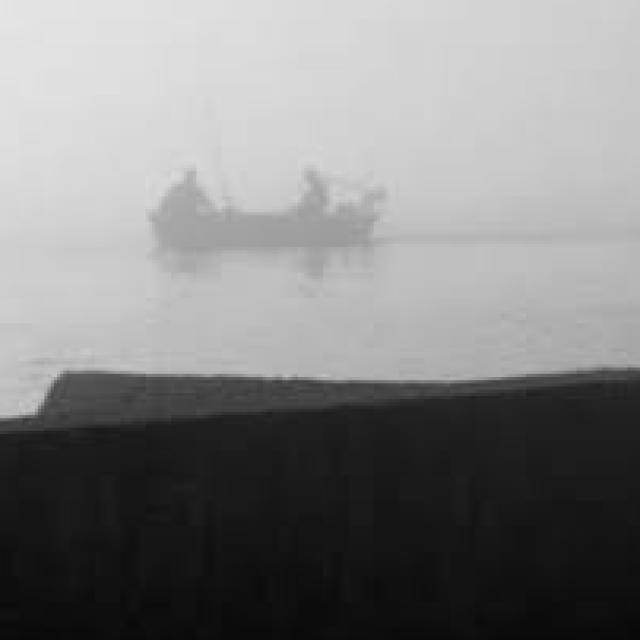fishing boat: (148, 146, 386, 254)
